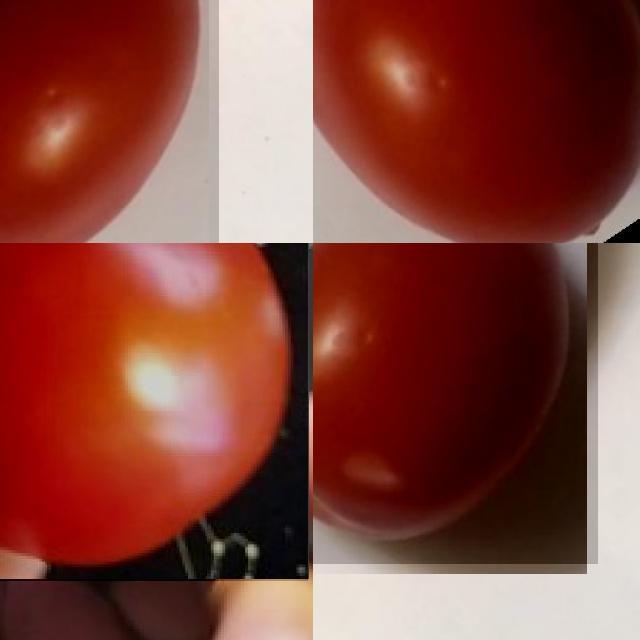Fresh Tomato: (0, 243, 308, 580), (313, 243, 597, 564), (313, 0, 640, 243), (0, 0, 218, 243)
